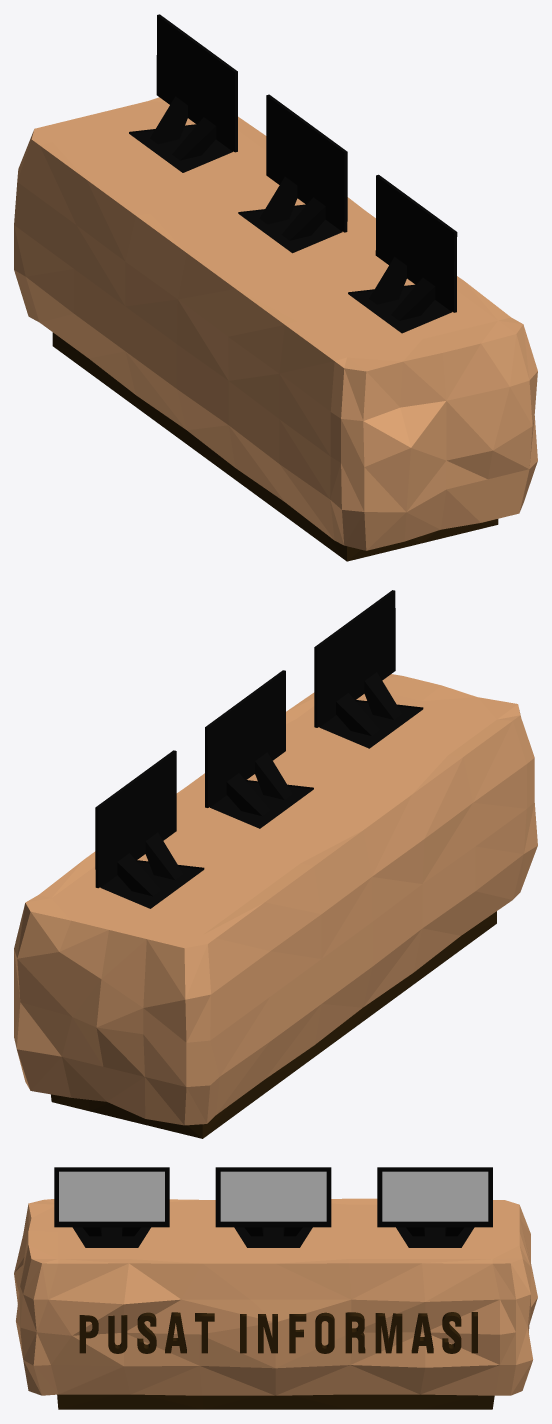
3 renders of one model, top to bottom at view 1: azimuth 30°, elevation 25°; view 2: azimuth 150°, elevation 25°; view 3: azimuth 270°, elevation 25°, orthographic. The views are drawn at different scales.
Visible parts, largest first — view 1: Cube, Cube.169; view 2: Cube, Cube.169; view 3: Cube, Cube.169, Text.
Boxes of the visible parts, x1=… form: Cube: x1=14, y1=97, x2=537, y2=561; Cube.169: x1=129, y1=14, x2=457, y2=333; Cube: x1=14, y1=674, x2=537, y2=1138; Cube.169: x1=95, y1=590, x2=423, y2=908; Cube: x1=14, y1=1198, x2=537, y2=1409; Cube.169: x1=54, y1=1167, x2=492, y2=1247; Text: x1=79, y1=1312, x2=477, y2=1353.
Bounding box in the file's own units: 37.04 × 51.46 × 108.
